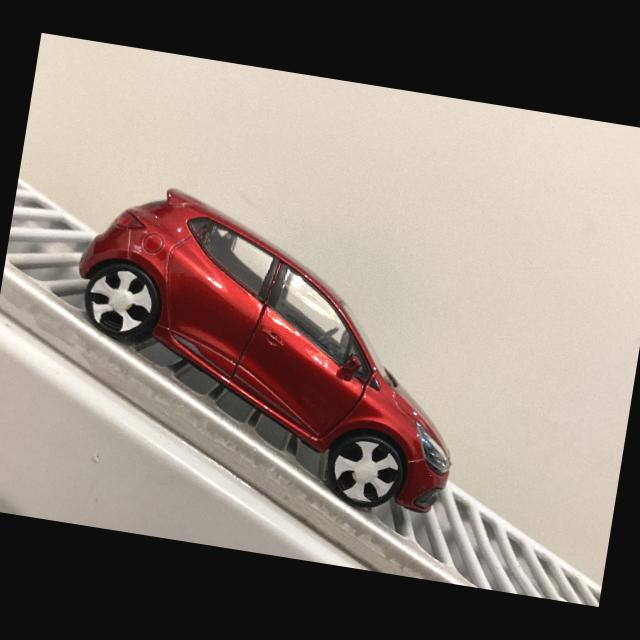Yanlis_Jant: (81, 264, 158, 338), (328, 435, 402, 507)
